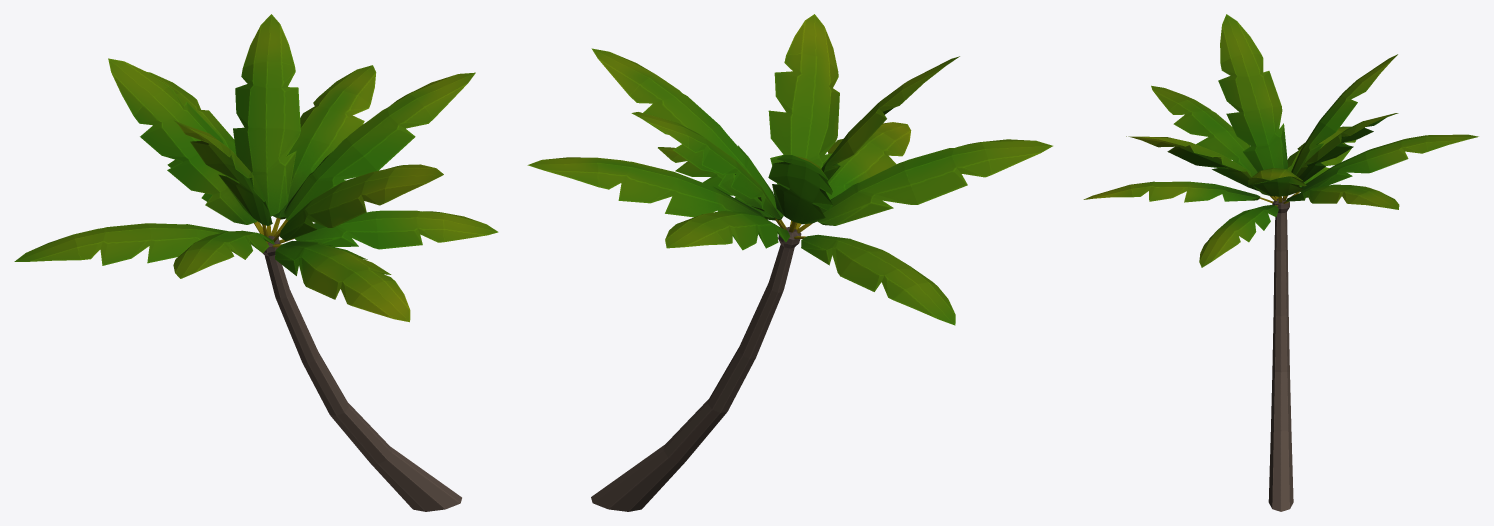
Rendered from palm.glb.
3 views of the same model, side by side, from view 1: azimuth 30°, elevation 25°; view 2: azimuth 150°, elevation 25°; view 3: azimuth 270°, elevation 25° (orthographic). The views are drawn at different scales.
Visible parts, largest first — view 1: Node; view 2: Node; view 3: Node.
Part boxes in pixels (x1,y1,x2,y2): Node: [14, 14, 498, 511]; Node: [527, 14, 1052, 511]; Node: [1083, 14, 1478, 511].
Bounding box in the file's own units: 15.28 × 17.24 × 16.55.
Materials: 1 (1 with a texture image).
